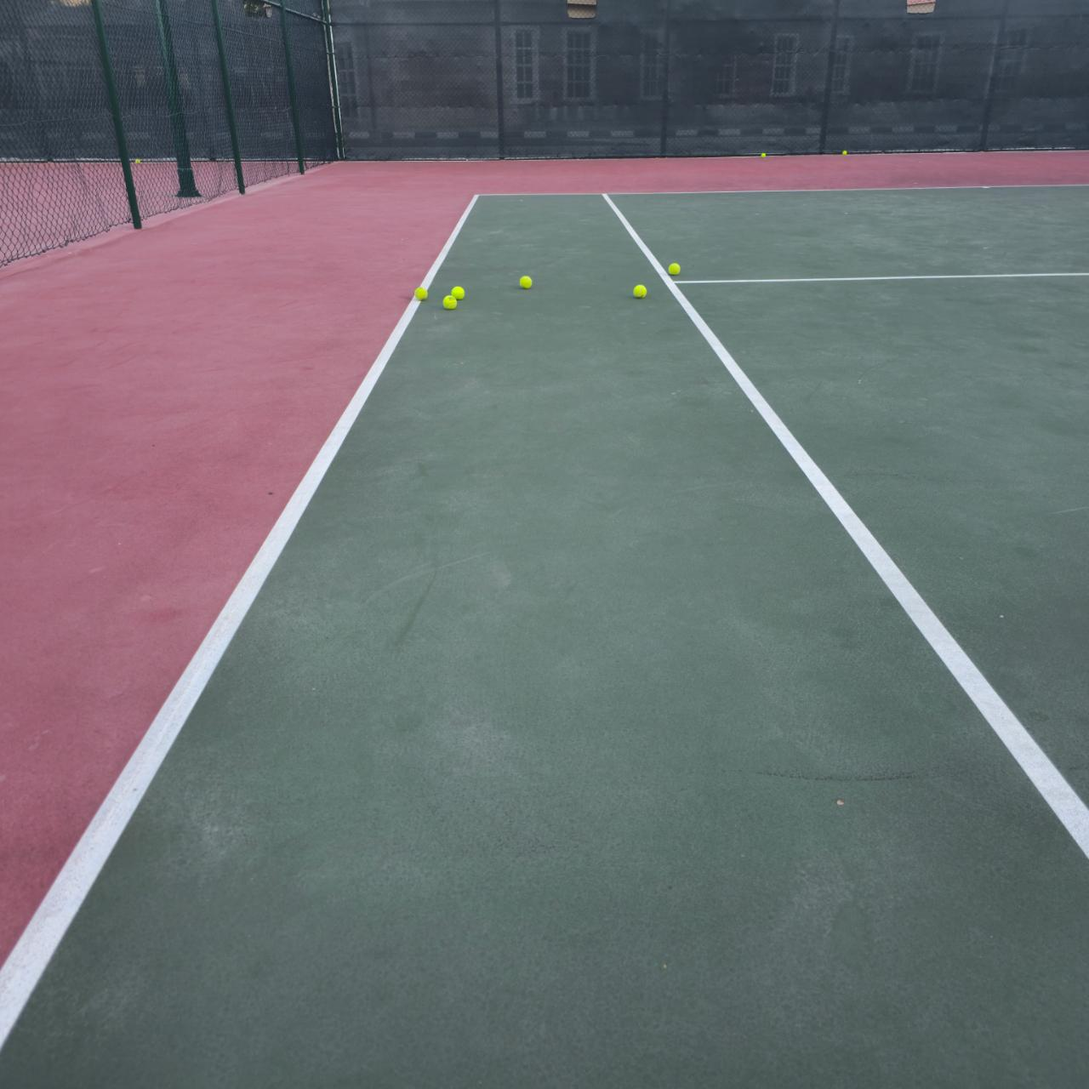tennis-ball: (631, 282, 647, 298), (449, 283, 465, 299), (413, 284, 428, 300), (441, 294, 456, 310), (517, 273, 532, 288), (667, 260, 681, 276), (761, 153, 766, 158), (842, 150, 847, 155)
